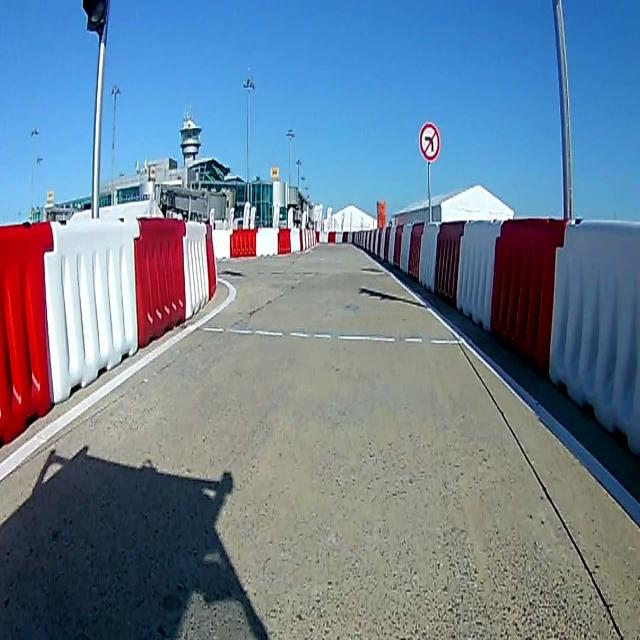soladonulmez: (420, 123, 440, 161)
